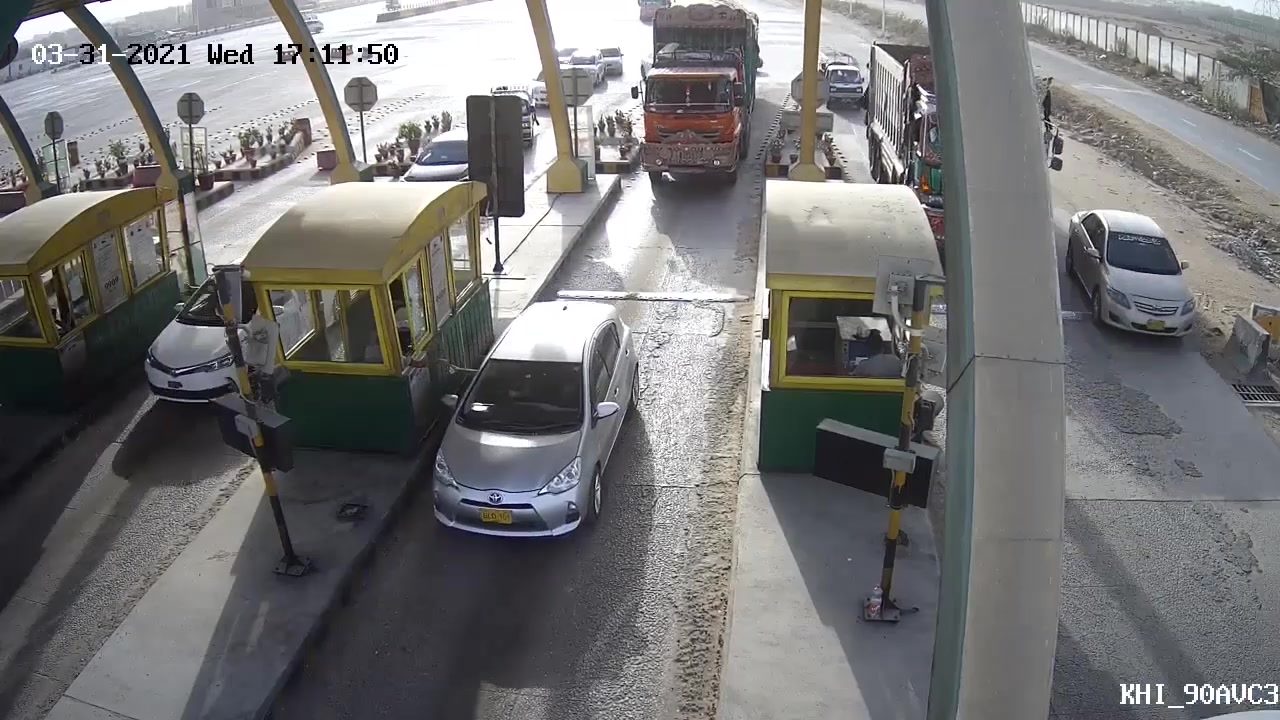F1: (424, 291, 643, 564)
F6: (624, 5, 766, 196)
